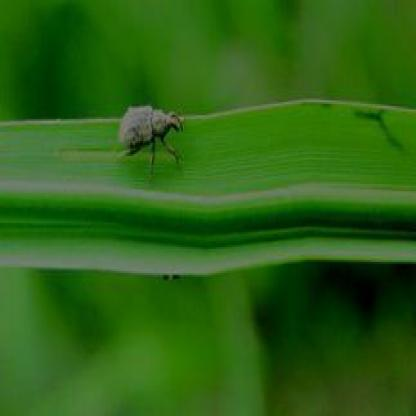rice-bug: (118, 101, 188, 168)
